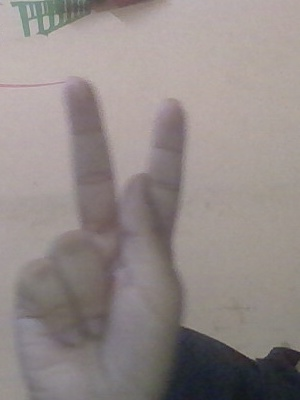K: (1, 70, 219, 289)
